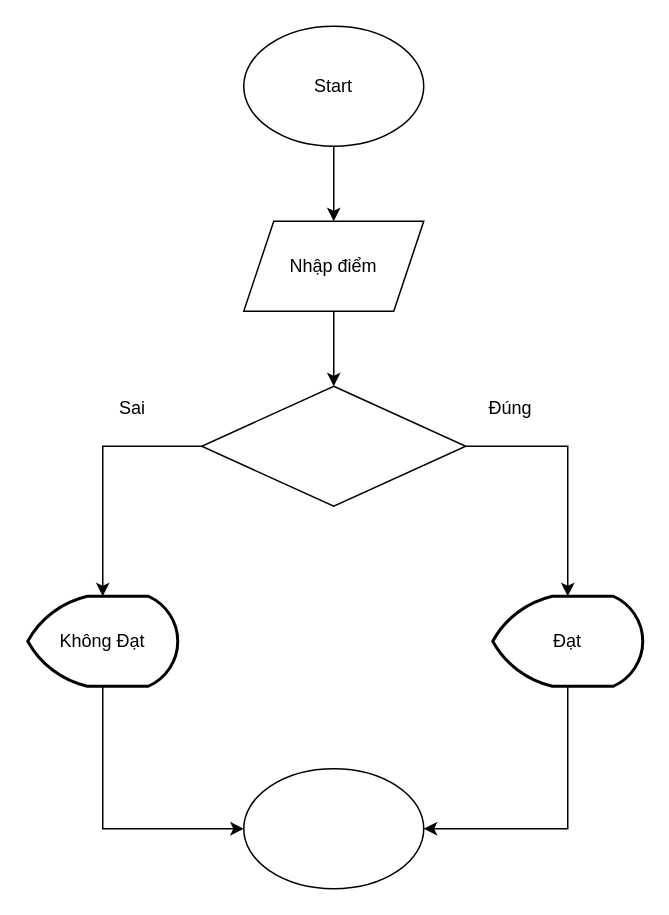
This 669x915 diagram has some shape labels left out. The shapes that lost their labels are listed below. From the top down, each one's box as (x1, y1, x2, y2) in pixels, then its label:
(200, 385, 466, 506): Điểm > 5?
(242, 767, 424, 889): Stop
